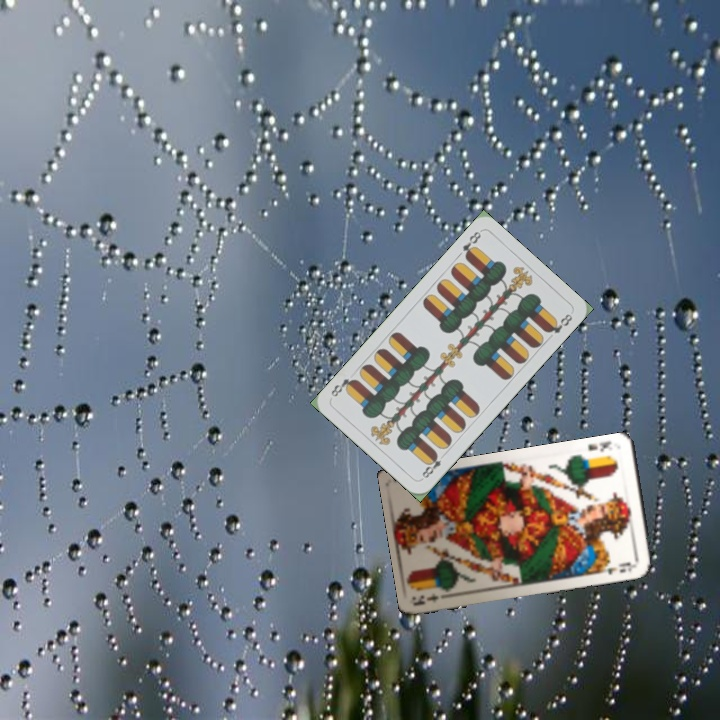E8: (458, 227, 484, 262), (417, 449, 444, 482)
EK: (412, 589, 453, 608), (583, 437, 614, 455)
